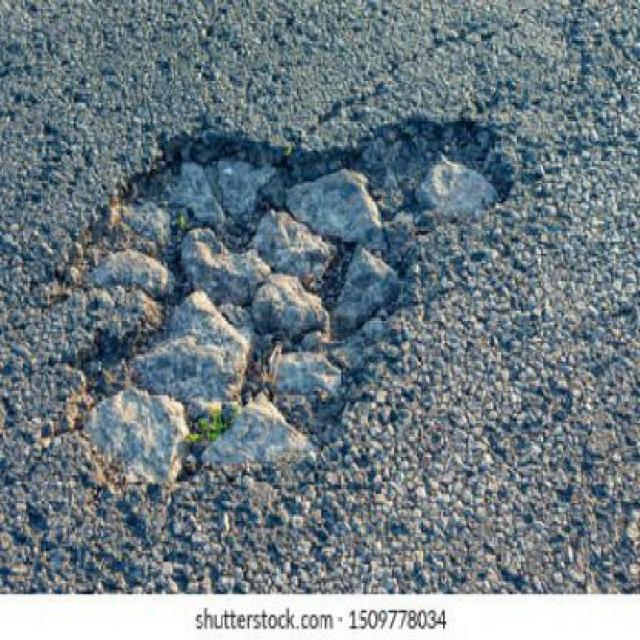Pothole: (32, 104, 512, 484)
